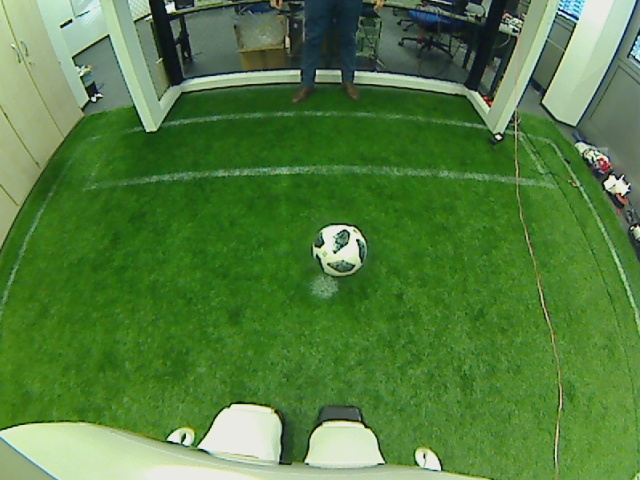ball: (310, 222, 370, 277)
